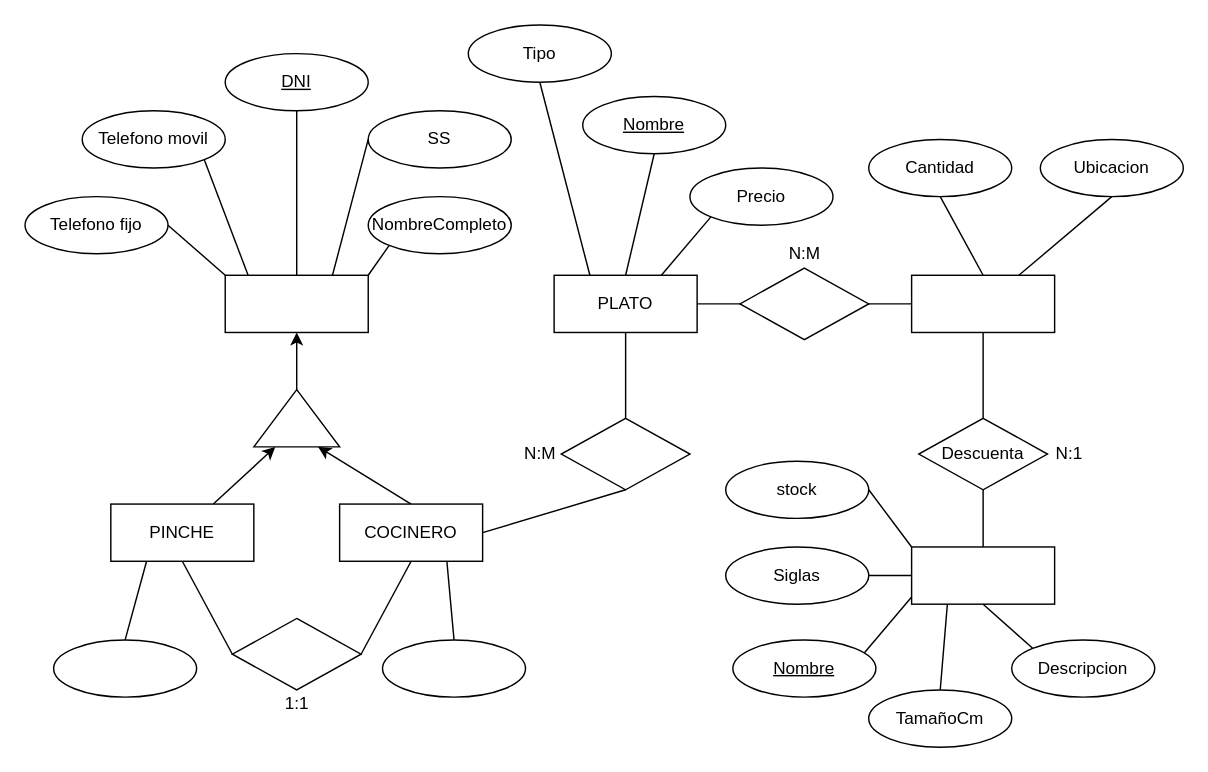
The diagram is 1208 pixels wide and 772 high, and some of its shapes have lost their labels. Here are the shapes that lost their labels. From the top down, the centre of each, then its label:
At point (296, 303): "EMPLEADO".
At point (804, 303): "Usa".
At point (982, 303): "INGREDIENTES".
At point (625, 453): "Prepara".
At point (982, 575): "ALMACEN".
At point (124, 667): "FechaNacimiento".
At point (296, 653): "Responsable".
At point (453, 667): "Antiguedad".
